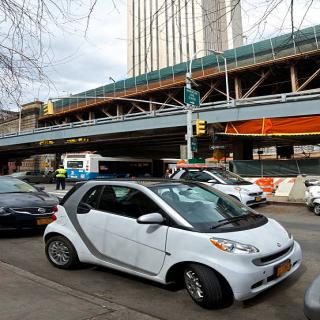Normal_vehicle: (58, 178, 300, 301), (169, 164, 275, 208), (0, 174, 64, 240), (4, 170, 57, 189)
